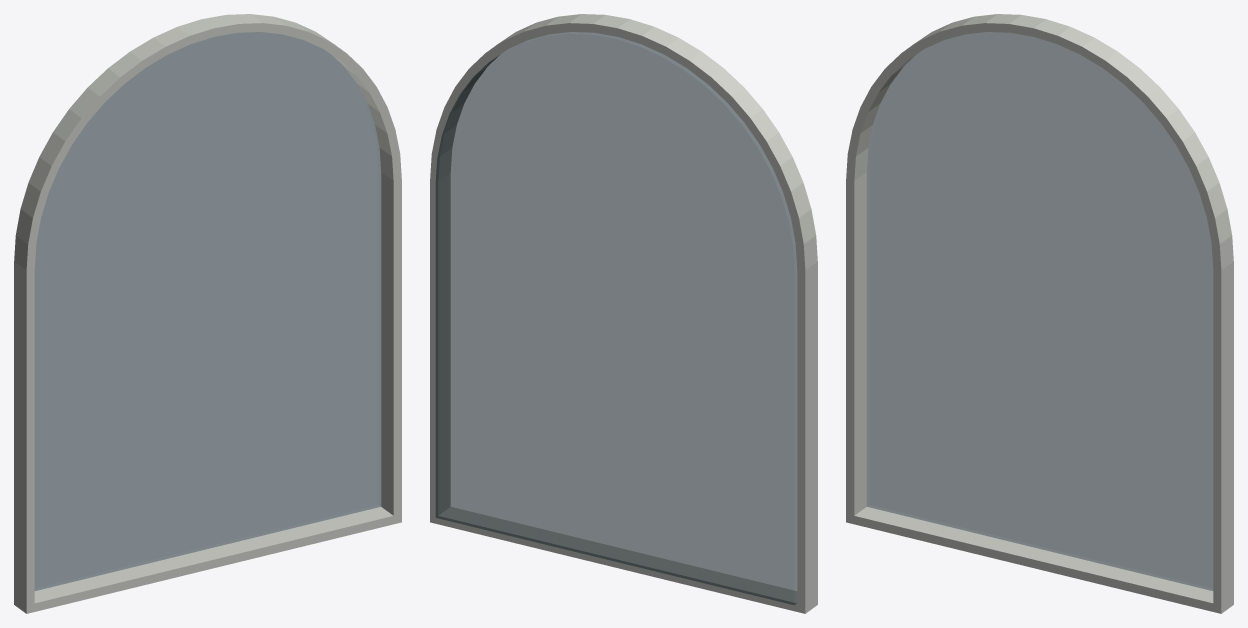
File: moderno_arch.glb
The picture shows the model from 3 angles, left to right: view 1: azimuth 30°, elevation 25°; view 2: azimuth 150°, elevation 25°; view 3: azimuth 330°, elevation 25°; orthographic projection.
Parts seen in each view (by area): view 1: window_glass#0001, window_reveal#0001; view 2: window_glass#0001, window_reveal#0001; view 3: window_glass#0001, window_reveal#0001, window_profile#0008.
Boxes of the visible parts, left/top/right/bottom form: window_glass#0001: left=34, top=32, right=381, bottom=590; window_reveal#0001: left=14, top=14, right=401, bottom=613; window_glass#0001: left=435, top=32, right=797, bottom=604; window_reveal#0001: left=430, top=14, right=817, bottom=613; window_glass#0001: left=866, top=32, right=1213, bottom=590; window_reveal#0001: left=846, top=14, right=1233, bottom=613; window_profile#0008: left=942, top=22, right=1222, bottom=612.
Bounding box in the file's own units: 1.6 × 2.2 × 0.112.
